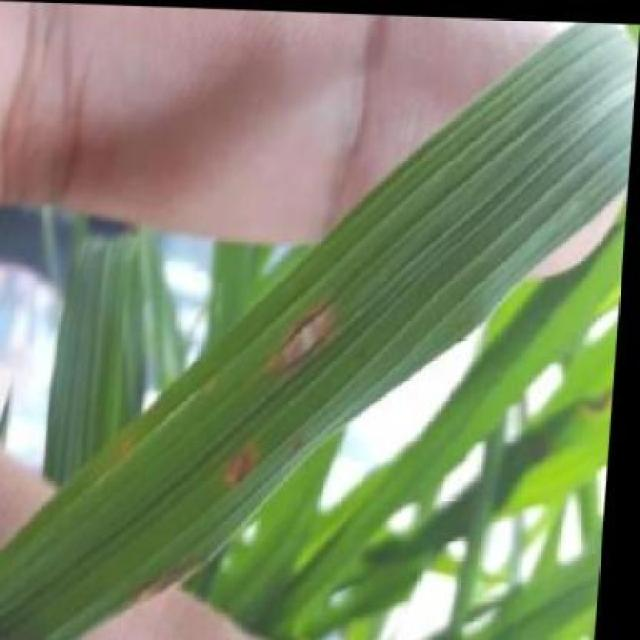Bacterial_Leaf_Blight: (190, 408, 295, 520), (264, 276, 378, 372)
